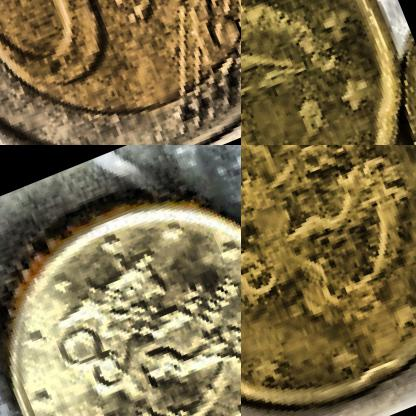coin: (0, 161, 240, 415), (241, 145, 415, 415), (0, 0, 240, 144), (241, 0, 415, 144)
